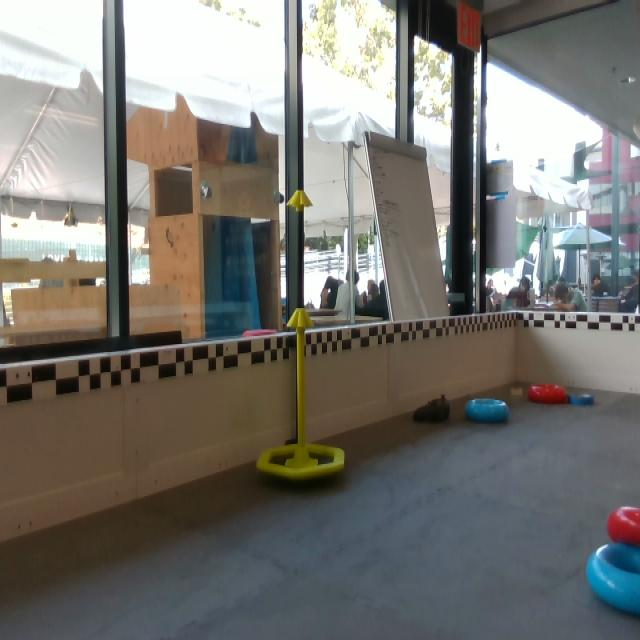Blue-Ring: (583, 541, 639, 617), (465, 399, 509, 425), (570, 390, 596, 410)
Mobile-Goal: (255, 308, 346, 484)
Red-Ring: (606, 505, 639, 549), (528, 384, 570, 404)
Yellow-Stake-Head: (285, 307, 316, 329), (286, 189, 314, 208)
